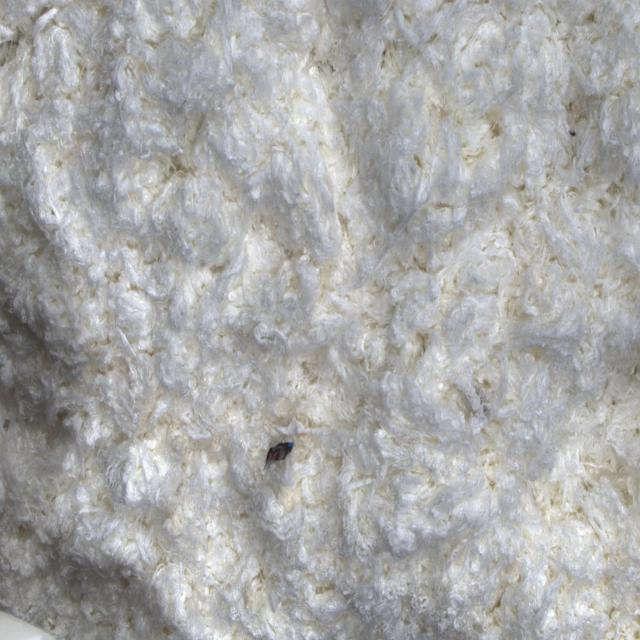dust: (263, 435, 296, 473)
